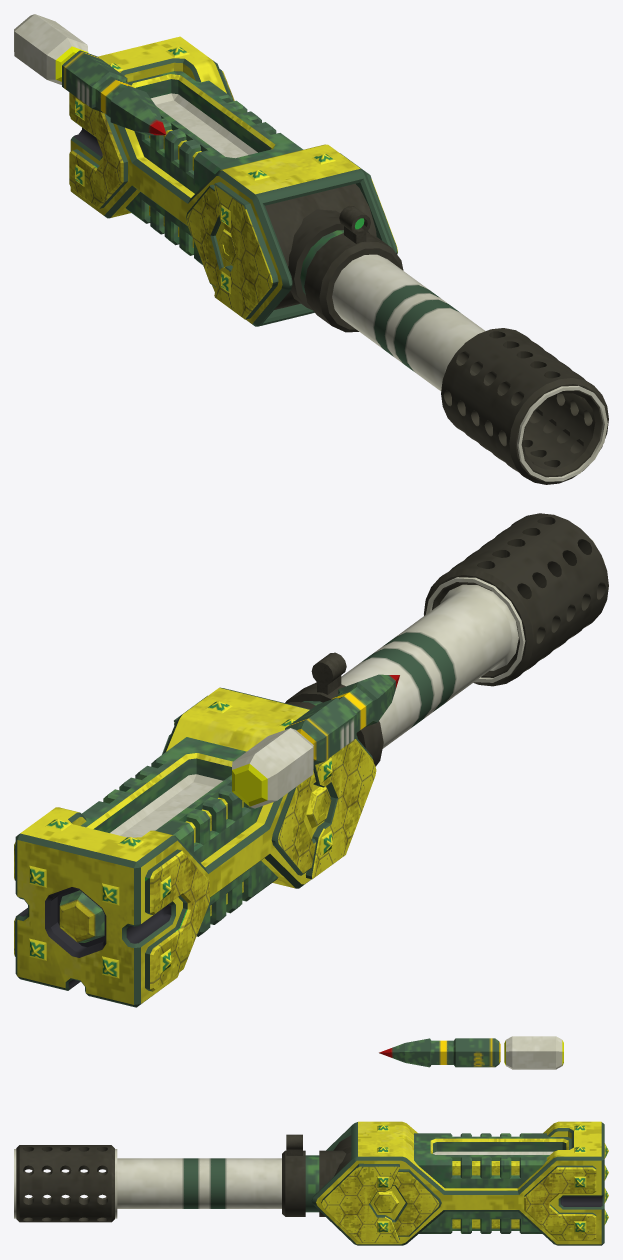
File: knightfall_cannon.fbx
3 renders of one model, top to bottom at view 1: azimuth 30°, elevation 25°; view 2: azimuth 150°, elevation 25°; view 3: azimuth 270°, elevation 25°, orthographic. The views are drawn at different scales.
Visible parts, largest first — view 1: geo_body, geo_gun_end, geo_gun_mid, geo_shell, geo_gun_base, geo_propellant; view 2: geo_body, geo_gun_end, geo_shell, geo_propellant, geo_gun_mid; view 3: geo_body, geo_gun_end, geo_gun_mid, geo_shell, geo_propellant, geo_gun_base.
Part boxes in pixels (x1=…): geo_body: x1=69, y1=36, x2=397, y2=326; geo_gun_end: x1=332, y1=254, x2=608, y2=484; geo_gun_mid: x1=288, y1=205, x2=403, y2=332; geo_shell: x1=62, y1=50, x2=166, y2=135; geo_gun_base: x1=265, y1=183, x2=376, y2=309; geo_propellant: x1=14, y1=14, x2=88, y2=84; geo_body: x1=14, y1=687, x2=376, y2=1007; geo_gun_end: x1=341, y1=513, x2=608, y2=748; geo_shell: x1=285, y1=674, x2=399, y2=765; geo_propellant: x1=232, y1=728, x2=313, y2=808; geo_gun_mid: x1=285, y1=652, x2=383, y2=766; geo_body: x1=311, y1=1121, x2=608, y2=1245; geo_gun_end: x1=14, y1=1145, x2=281, y2=1222; geo_gun_mid: x1=282, y1=1134, x2=346, y2=1216; geo_shell: x1=379, y1=1038, x2=500, y2=1067; geo_propellant: x1=504, y1=1036, x2=563, y2=1069; geo_gun_base: x1=333, y1=1135, x2=351, y2=1175.
Size of what is drawn, in the model's own units: 3.41 by 3.46 by 12.09.
1 material, 1 textured.
